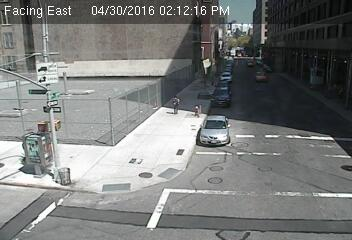neg: (231, 104, 247, 125), (102, 130, 115, 148)
pos: (168, 94, 183, 114)
